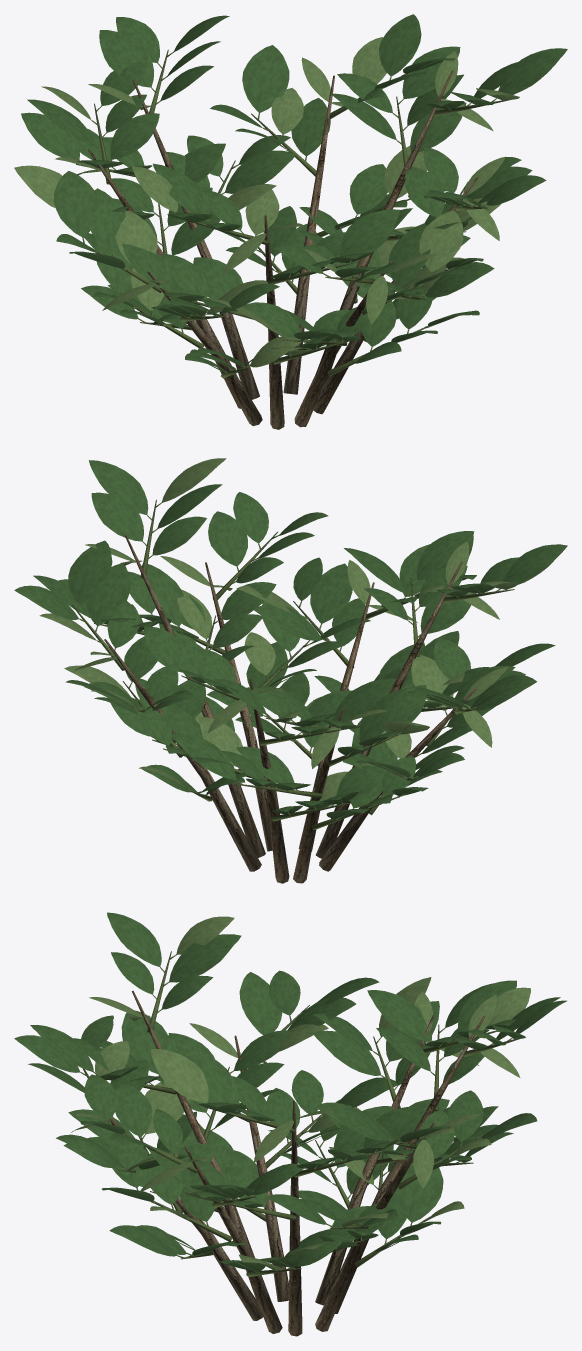
Rendered from forest_shrub_cluster.glb.
The picture shows the model from 3 angles, top to bottom: view 1: azimuth 30°, elevation 25°; view 2: azimuth 150°, elevation 25°; view 3: azimuth 270°, elevation 25°; orthographic projection. The views are drawn at different scales.
Visible parts, largest first — view 1: forest_leaf_surface, forest_new_leaf_surface, cedar_weathered_bark_surface, forest_flexible_stem_surface; view 2: forest_leaf_surface, forest_new_leaf_surface, cedar_weathered_bark_surface, forest_flexible_stem_surface; view 3: forest_leaf_surface, forest_new_leaf_surface, cedar_weathered_bark_surface, forest_flexible_stem_surface.
Part boxes in pixels (left/top/right/bottom): forest_leaf_surface: left=21, top=14, right=567, bottom=372; forest_new_leaf_surface: left=14, top=37, right=519, bottom=372; cedar_weathered_bark_surface: left=88, top=70, right=478, bottom=429; forest_flexible_stem_surface: left=76, top=49, right=509, bottom=378; forest_leaf_surface: left=14, top=460, right=567, bottom=819; forest_new_leaf_surface: left=39, top=458, right=518, bottom=819; cedar_weathered_bark_surface: left=104, top=535, right=476, bottom=883; forest_flexible_stem_surface: left=72, top=499, right=514, bottom=830; forest_leaf_surface: left=14, top=912, right=566, bottom=1271; forest_new_leaf_surface: left=71, top=916, right=530, bottom=1272; cedar_weathered_bark_surface: left=109, top=990, right=485, bottom=1336; forest_flexible_stem_surface: left=80, top=951, right=520, bottom=1277.
Bounding box in the file's own units: 1.66 × 1.11 × 1.65.
Materials: 4 (4 with a texture image).
